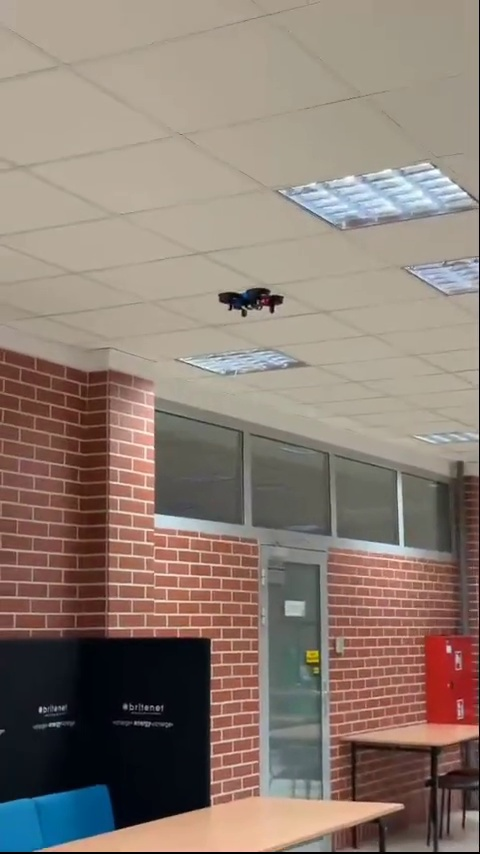drone: (214, 282, 284, 317)
